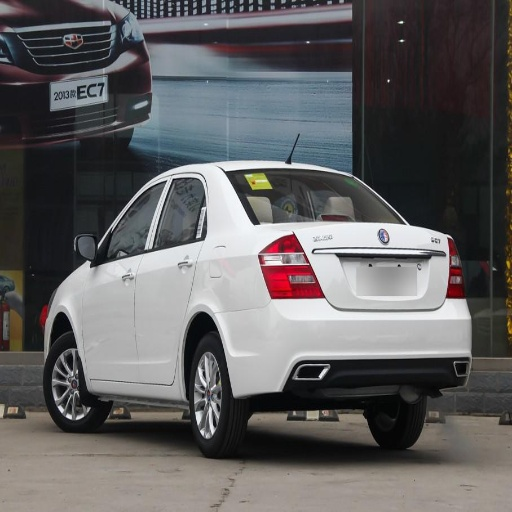back_bumper: (220, 297, 472, 402)
back_glass: (227, 171, 396, 221)
back_left_door: (135, 172, 209, 382)
front_left_door: (82, 178, 168, 381)
hood: (25, 5, 121, 24)
